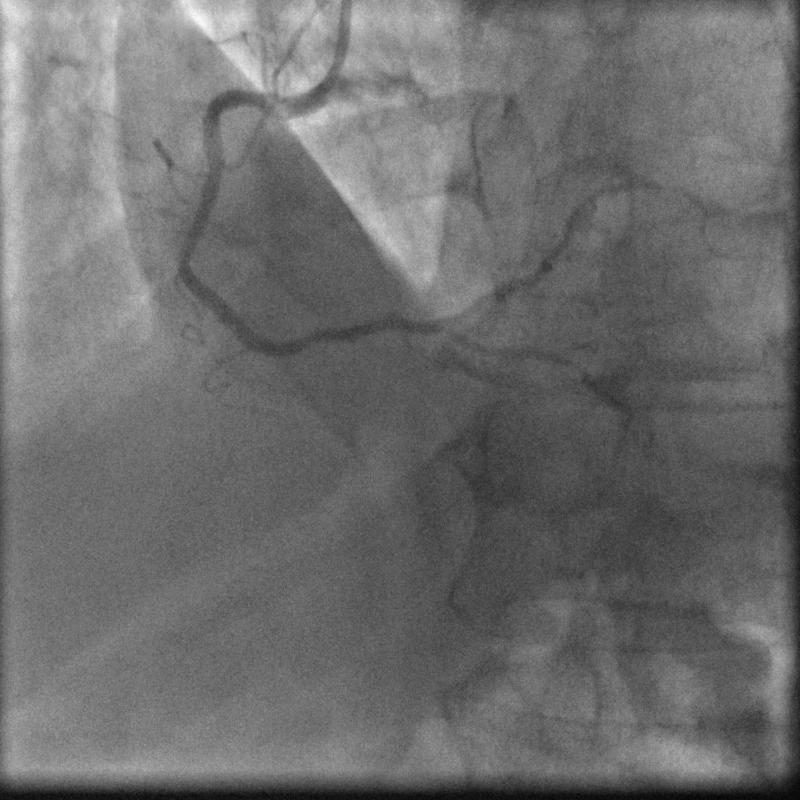Stenosis: (176, 237, 197, 266)
